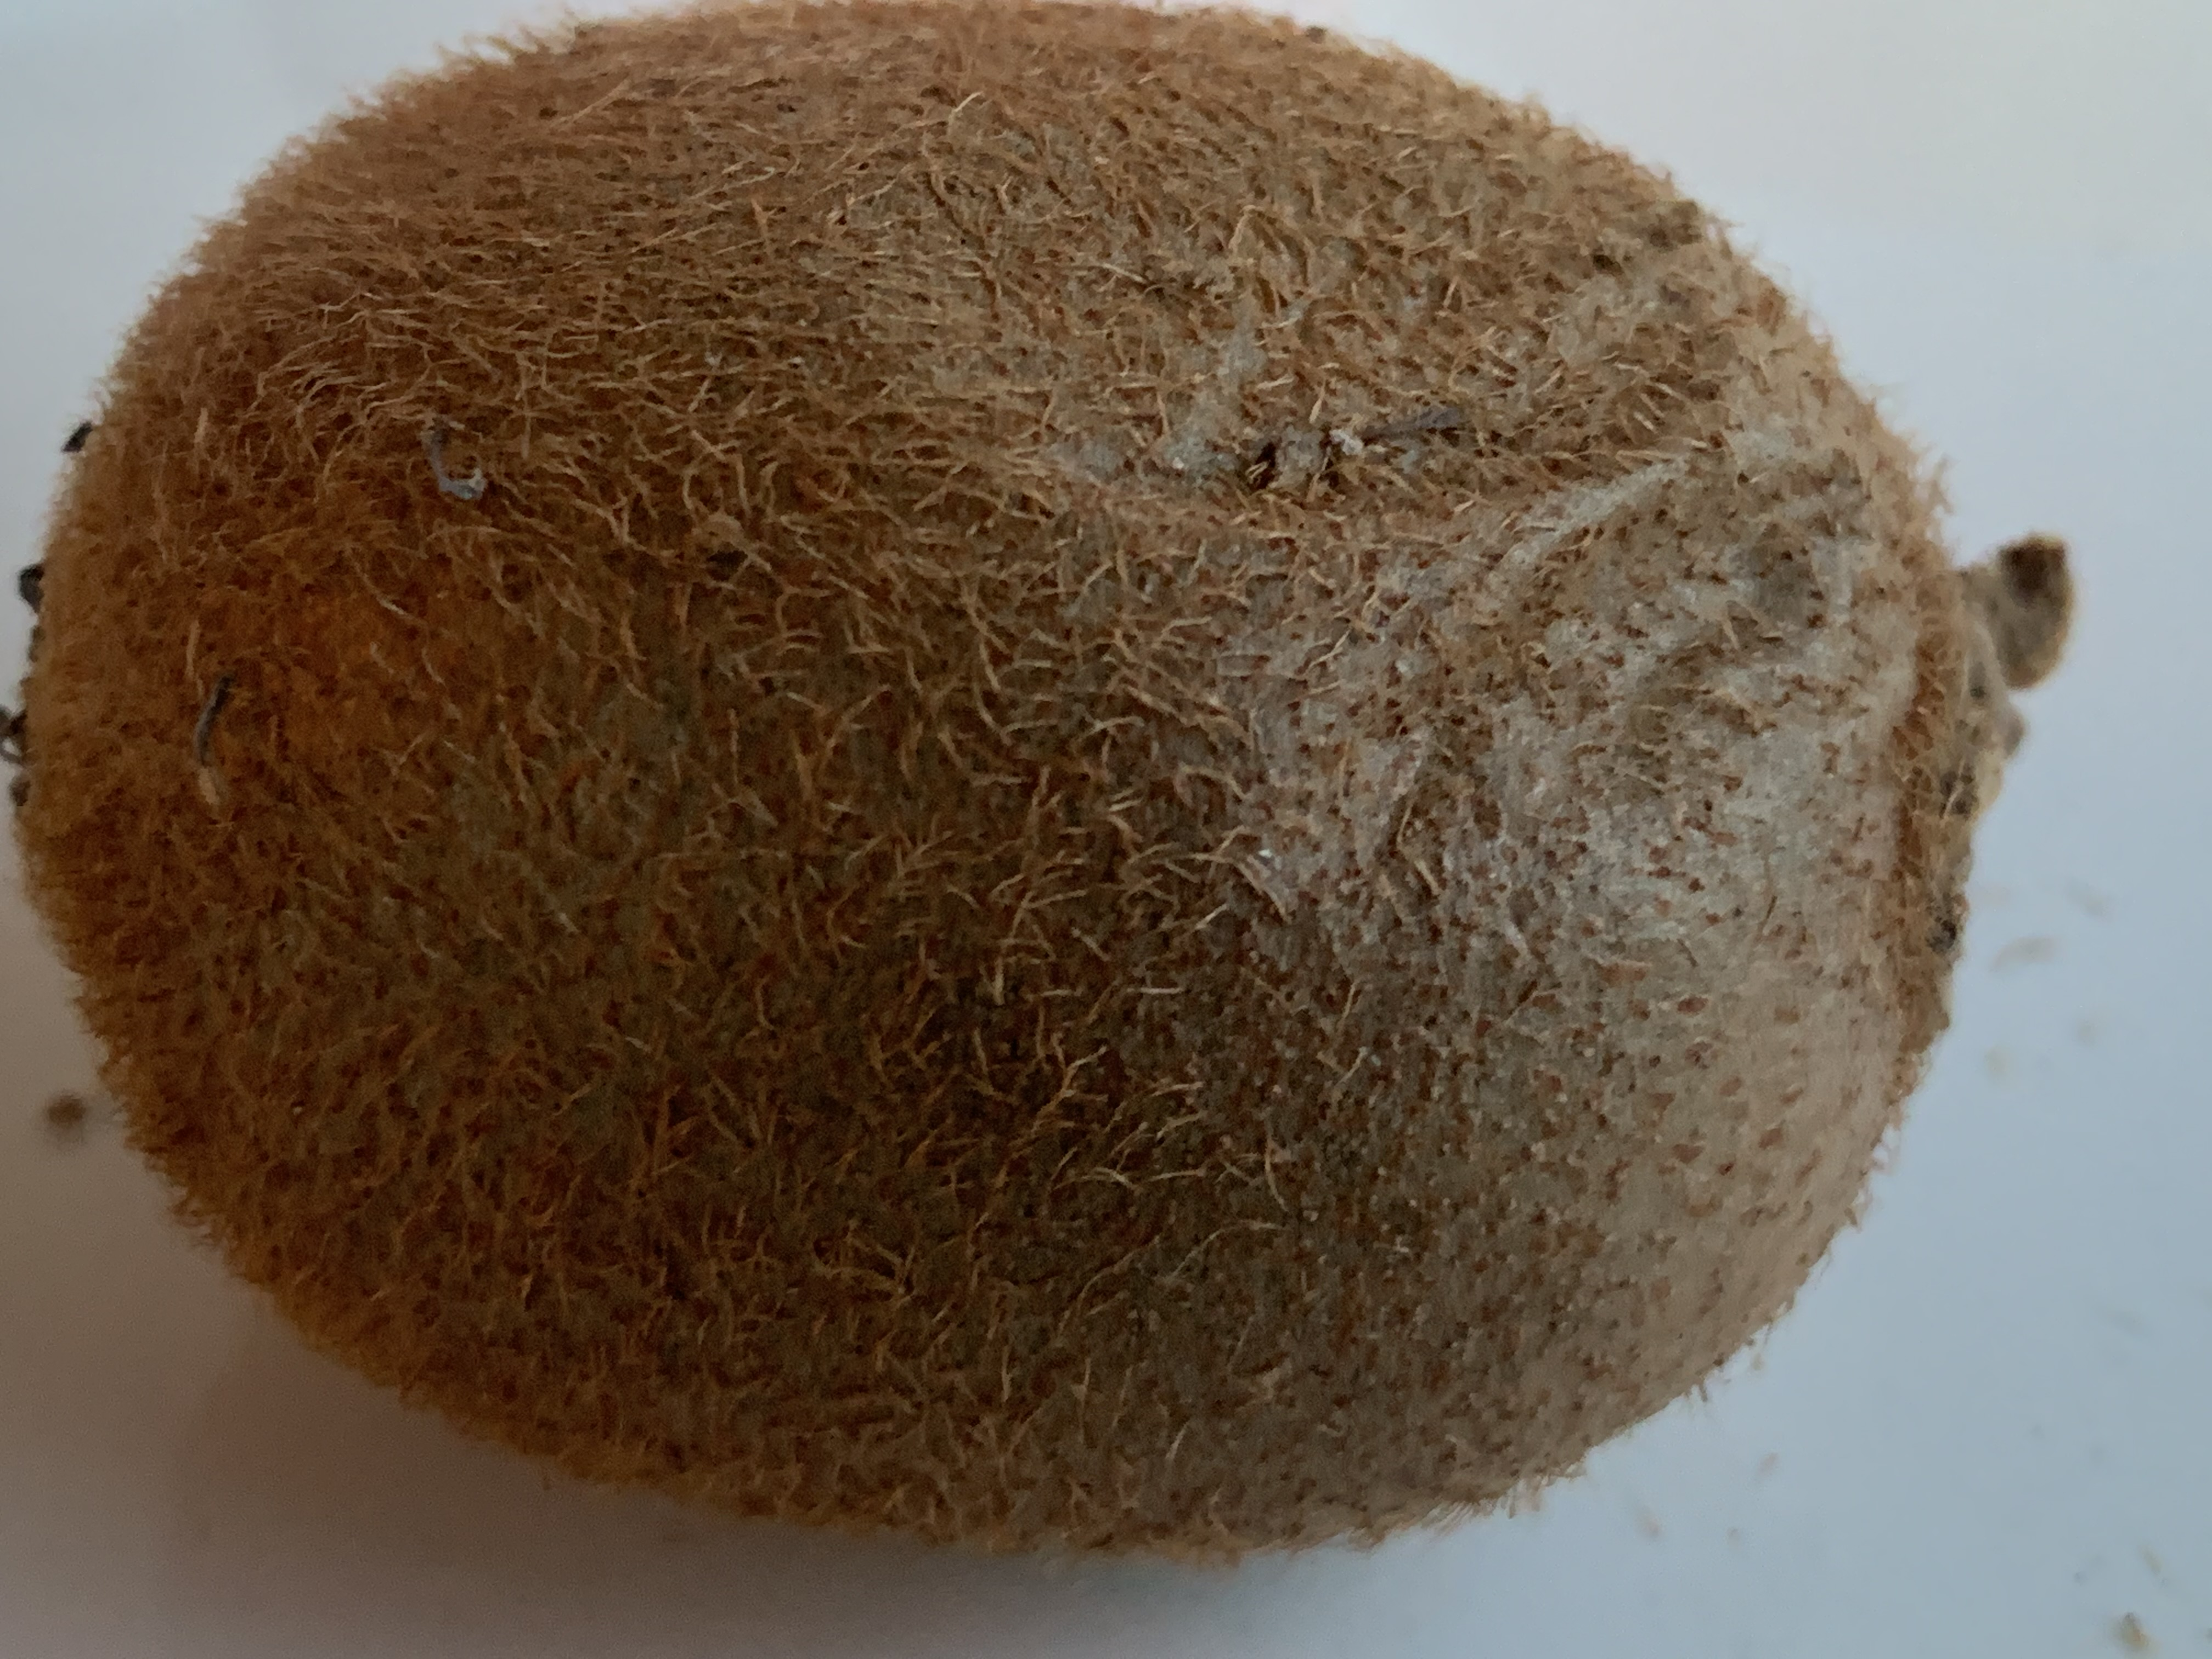kiwi: (17, 23, 2081, 1554)
